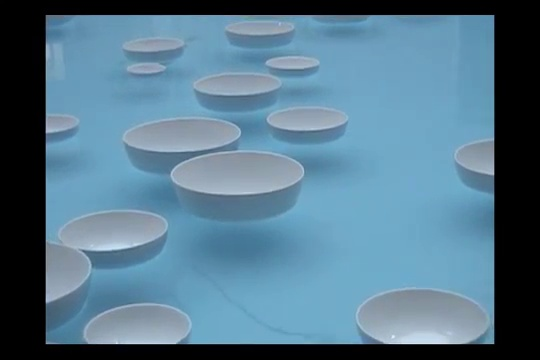bowl: (171, 151, 304, 220), (354, 288, 490, 342), (122, 117, 242, 173), (59, 210, 169, 265), (83, 303, 193, 344), (45, 241, 91, 324), (193, 73, 282, 110), (267, 106, 349, 144), (454, 137, 494, 192), (225, 20, 294, 50), (121, 37, 184, 64), (264, 56, 320, 77), (45, 113, 80, 142), (126, 62, 167, 79)
